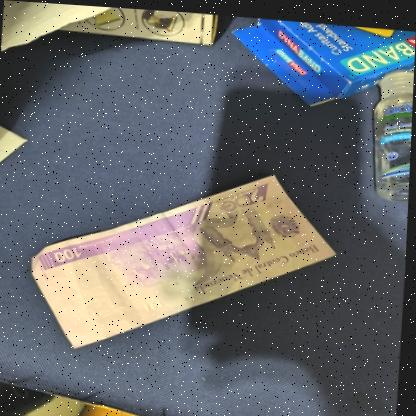one_hundred-back-vef: (28, 152, 343, 366)
